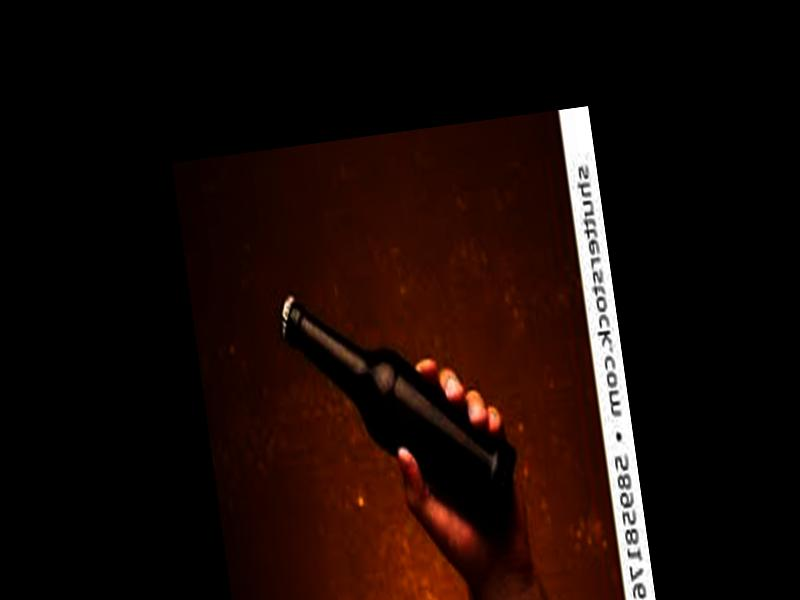Beer: (274, 264, 527, 571)
